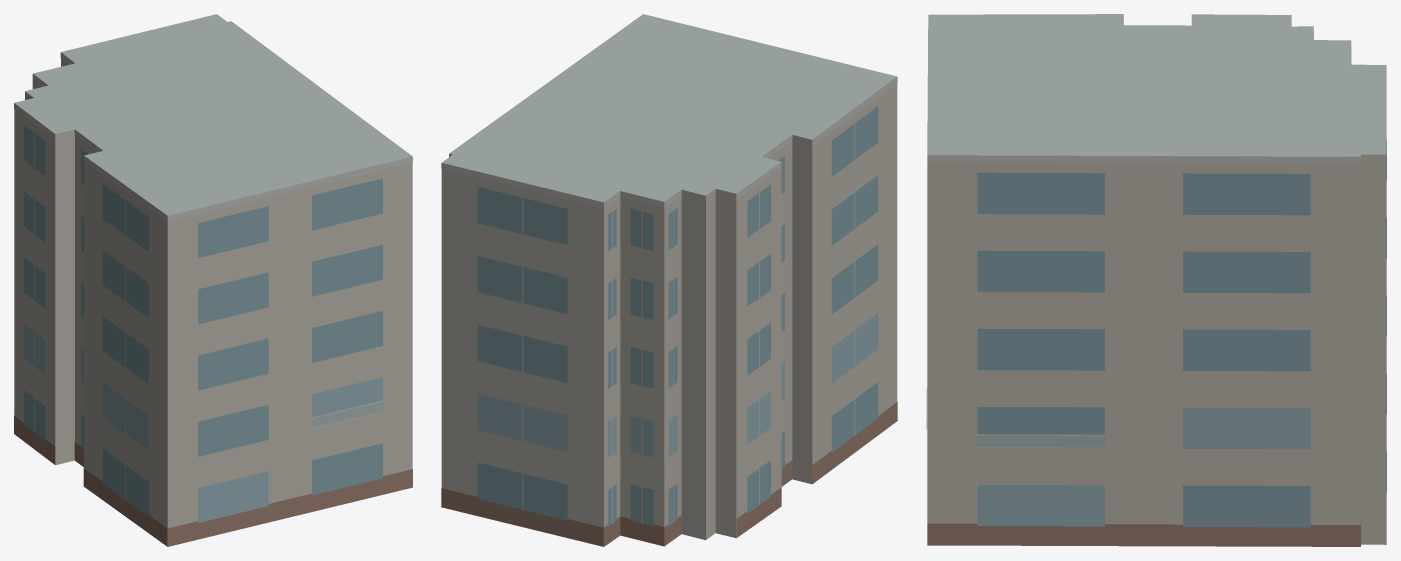
Rendered from survey-upis-32736771.glb.
3 views of the same model, side by side, from view 1: azimuth 30°, elevation 25°; view 2: azimuth 150°, elevation 25°; view 3: azimuth 270°, elevation 25° (orthographic). The views are drawn at different scales.
Visible parts, largest first — view 1: survey-upis-32736771.tmp; view 2: survey-upis-32736771.tmp; view 3: survey-upis-32736771.tmp.
Boxes of the visible parts, box(x1,y1,x2,y2) form: survey-upis-32736771.tmp: box(14, 14, 412, 546); survey-upis-32736771.tmp: box(441, 14, 897, 546); survey-upis-32736771.tmp: box(926, 14, 1386, 546).
Size of the model in its own units: 10.53 by 13.4 by 14.35.
